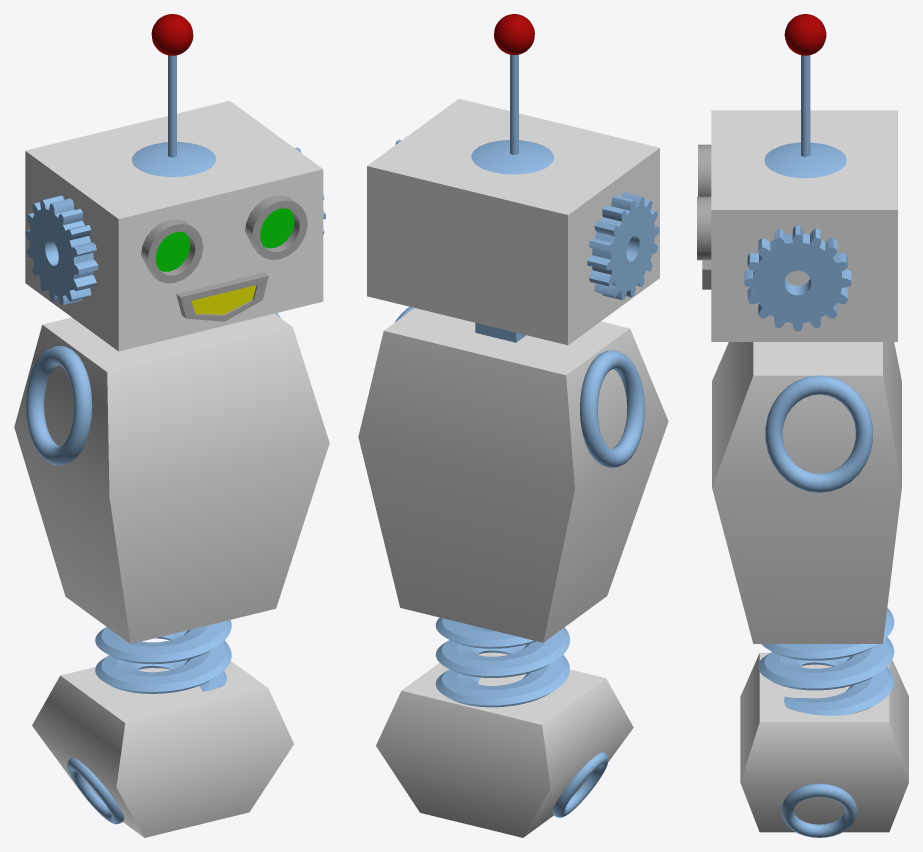
File: DetaBodyHead.fbx
3 renders of one model, left to right at view 1: azimuth 30°, elevation 25°; view 2: azimuth 150°, elevation 25°; view 3: azimuth 270°, elevation 25°, orthographic.
Parts seen in each view (by area): view 1: DetaBody, DetaHead; view 2: DetaBody, DetaHead; view 3: DetaBody, DetaHead.
Part boxes in pixels (x1=…): DetaBody: x1=14, y1=313, x2=329, y2=837; DetaHead: x1=25, y1=14, x2=325, y2=351; DetaBody: x1=358, y1=307, x2=668, y2=837; DetaHead: x1=367, y1=14, x2=659, y2=345; DetaBody: x1=712, y1=342, x2=908, y2=837; DetaHead: x1=697, y1=14, x2=897, y2=341.
Bounding box in the file's own units: 0.7993 × 2.48 × 0.6005.
